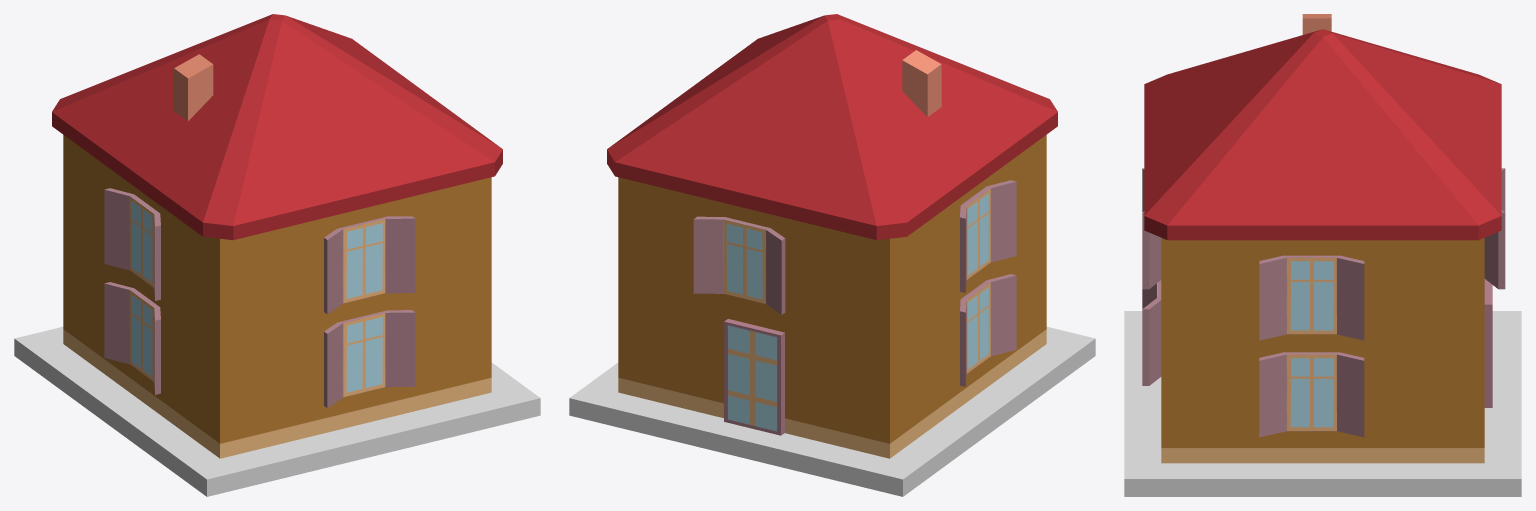
File: Tower_House_3.FBX
3 views of the same model, side by side, from view 1: azimuth 30°, elevation 25°; view 2: azimuth 150°, elevation 25°; view 3: azimuth 270°, elevation 25° (orthographic). The views are drawn at different scales.
Visible parts, largest first — view 1: Pyramid001, Box001; view 2: Pyramid001, Box001; view 3: Pyramid001, Box001.
Part boxes in pixels (<box>): Pyramid001: <box>52,14,502,458</box>; Box001: <box>14,326,540,496</box>; Pyramid001: <box>607,14,1057,458</box>; Box001: <box>569,326,1095,496</box>; Pyramid001: <box>1142,14,1505,463</box>; Box001: <box>1124,311,1521,496</box>.
Size of the model in its own units: 1 by 1.06 by 1.
Materials: 5 (5 with a texture image).
